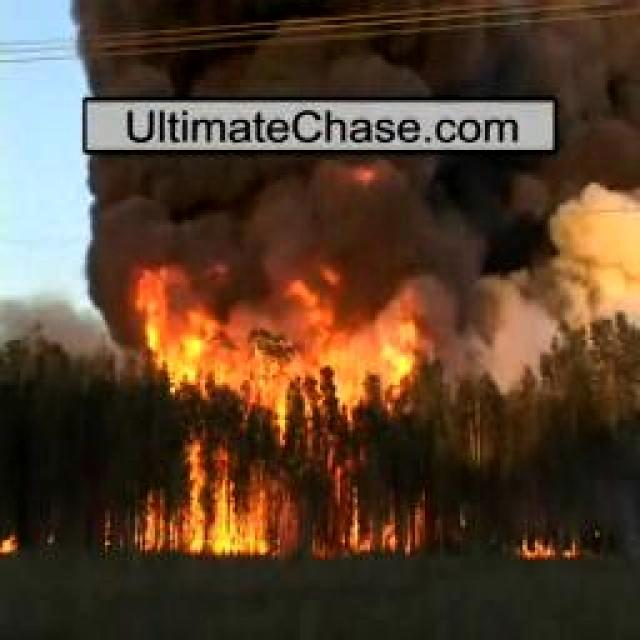fire: (128, 250, 432, 560), (514, 536, 582, 558), (0, 533, 28, 559)
